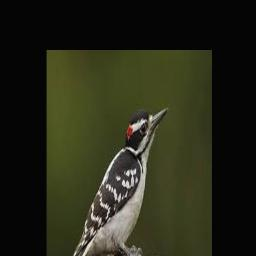Woodpecker: (70, 106, 168, 256)
